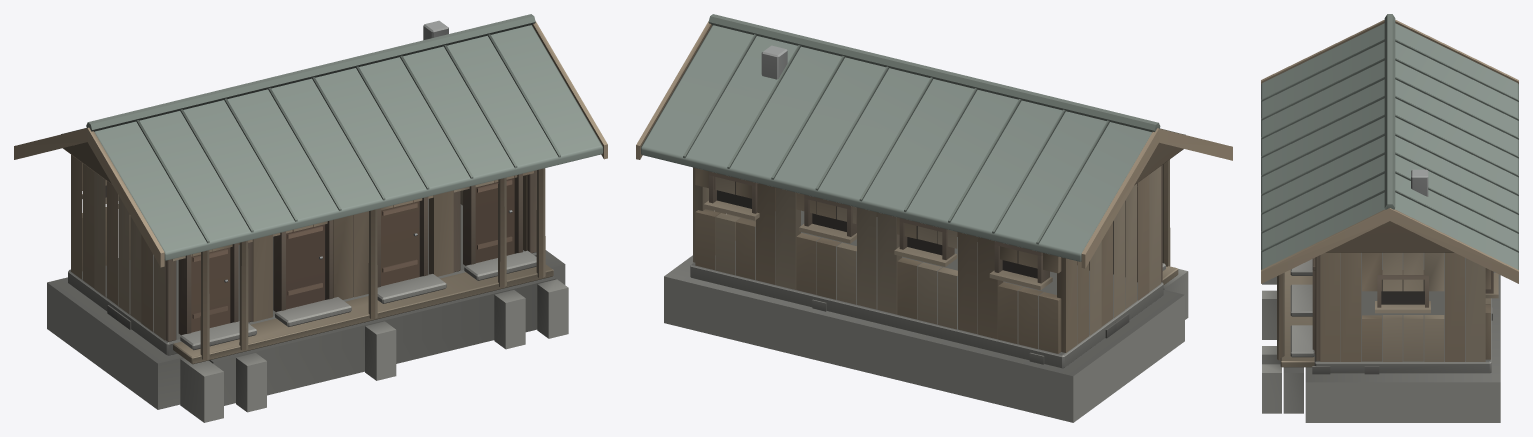
File: washhouse.glb
The picture shows the model from 3 angles, left to right: view 1: azimuth 30°, elevation 25°; view 2: azimuth 150°, elevation 25°; view 3: azimuth 270°, elevation 25°; orthographic projection. The views are drawn at different scales.
Bounding box in the file's own units: 10.38 × 5.69 × 5.9.
